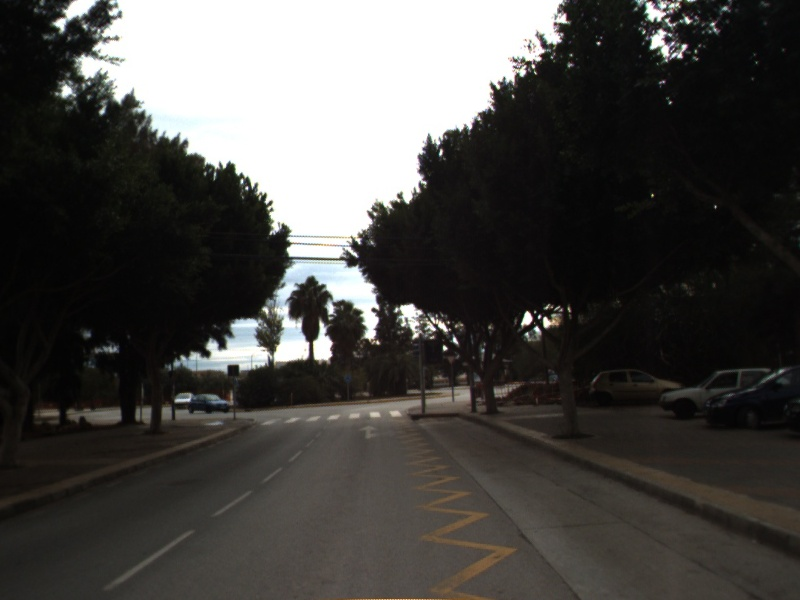STRAIGHT_RIGHT: (357, 424, 398, 441)
